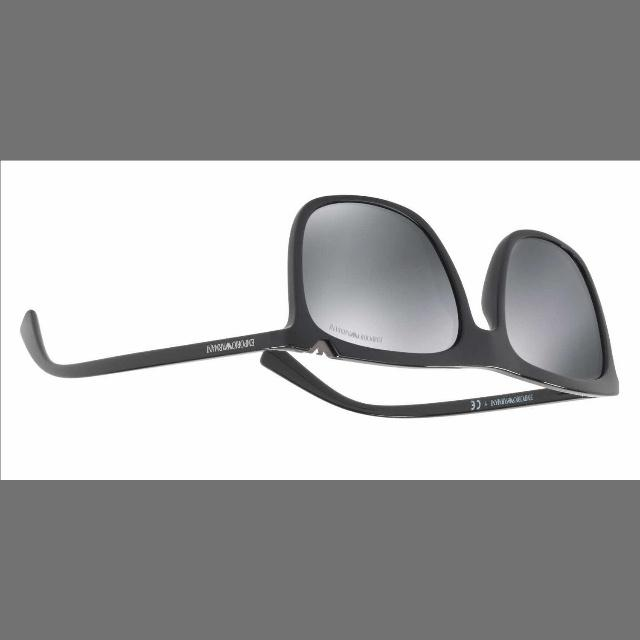Sunglasses: (0, 188, 636, 456)
